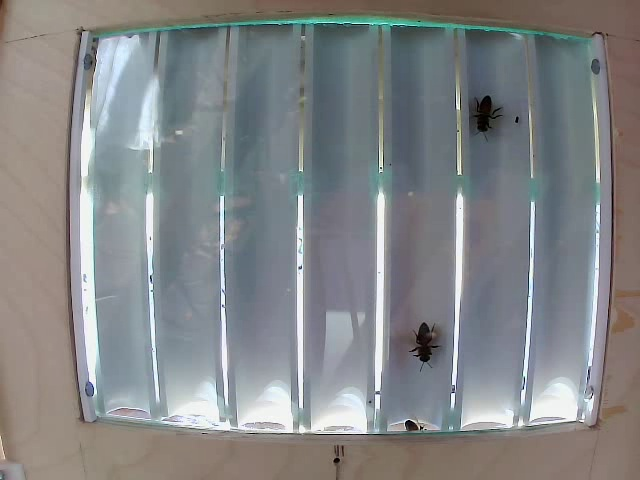bee: (404, 313, 442, 381), (468, 78, 500, 138)
